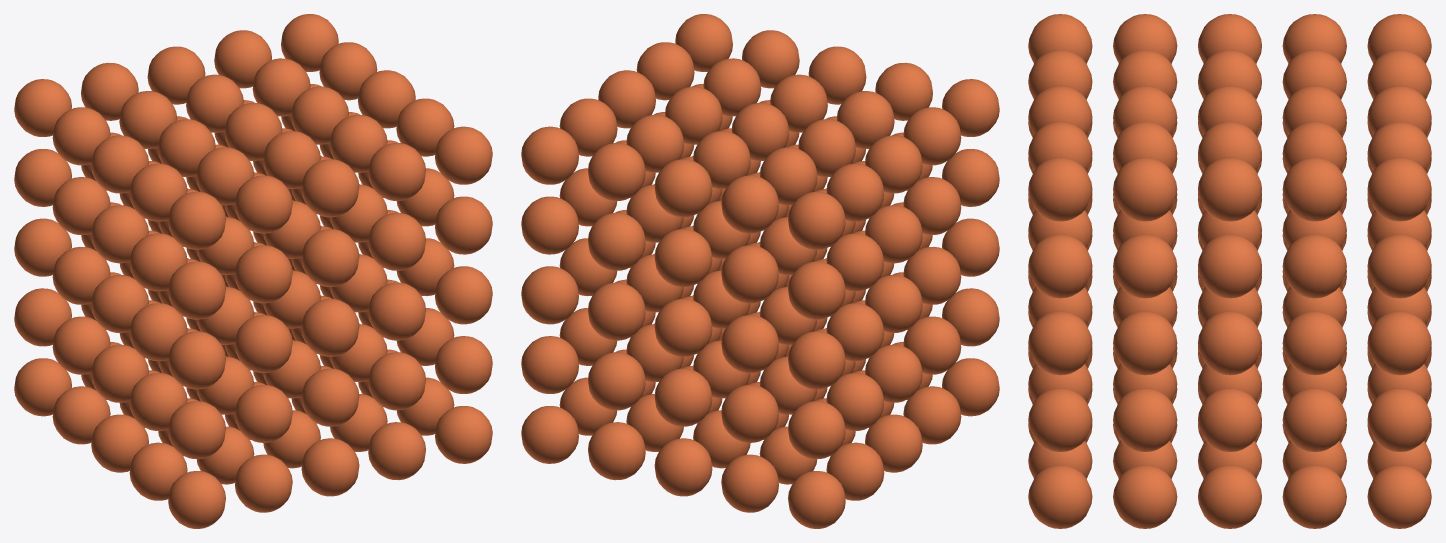
The model's file is PBRMaterialGrid.gltf.
3 views of the same model, side by side, from view 1: azimuth 30°, elevation 25°; view 2: azimuth 150°, elevation 25°; view 3: azimuth 270°, elevation 25° (orthographic). The views are drawn at different scales.
Parts seen in each view (by area): view 1: PBRFactor_C0_terracotta_M0.50_R1.00, PBRFactor_C0_terracotta_M0.25_R1.00, PBRFactor_C0_terracotta_M0.50_R0.75, PBRFactor_C0_terracotta_M0.00_R0.50, PBRFactor_C0_terracotta_M0.25_R0.05, PBRFactor_C0_terracotta_M0.50_R0.05, PBRFactor_C0_terracotta_M1.00_R0.50, PBRFactor_C0_terracotta_M0.00_R0.05, PBRFactor_C0_terracotta_M0.75_R0.25, PBRFactor_C0_terracotta_M0.75_R0.50, PBRFactor_C0_terracotta_M0.75_R0.75, PBRFactor_C0_terracotta_M1.00_R0.05 (+65 smaller); view 2: PBRFactor_C4_neutral_M0.50_R1.00, PBRFactor_C4_neutral_M0.25_R1.00, PBRFactor_C4_neutral_M0.50_R0.75, PBRFactor_C4_neutral_M0.00_R0.50, PBRFactor_C4_neutral_M0.25_R0.05, PBRFactor_C4_neutral_M0.50_R0.05, PBRFactor_C4_neutral_M1.00_R0.50, PBRFactor_C4_neutral_M0.00_R0.05, PBRFactor_C4_neutral_M0.75_R0.25, PBRFactor_C4_neutral_M0.75_R0.50, PBRFactor_C4_neutral_M0.75_R0.75, PBRFactor_C4_neutral_M1.00_R0.05 (+65 smaller); view 3: PBRFactor_C0_terracotta_M1.00_R0.05, PBRFactor_C4_neutral_M1.00_R0.05, PBRFactor_C0_terracotta_M1.00_R0.25, PBRFactor_C0_terracotta_M1.00_R0.50, PBRFactor_C4_neutral_M1.00_R0.25, PBRFactor_C4_neutral_M1.00_R0.50, PBRFactor_C1_gold_M1.00_R0.05, PBRFactor_C3_blue_M1.00_R0.05, PBRFactor_C1_gold_M1.00_R0.25, PBRFactor_C2_green_M1.00_R0.25, PBRFactor_C2_green_M1.00_R0.75, PBRFactor_C2_green_M1.00_R1.00 (+53 smaller).
Part boxes in pixels (box(x1,y1,x2,y2)): PBRFactor_C0_terracotta_M0.50_R1.00: box(301, 438, 359, 496); PBRFactor_C0_terracotta_M0.25_R1.00: box(235, 454, 292, 512); PBRFactor_C0_terracotta_M0.50_R0.75: box(301, 368, 359, 426); PBRFactor_C0_terracotta_M0.00_R0.50: box(168, 331, 225, 389); PBRFactor_C0_terracotta_M0.25_R0.05: box(235, 175, 292, 233); PBRFactor_C0_terracotta_M0.50_R0.05: box(301, 159, 359, 217); PBRFactor_C0_terracotta_M1.00_R0.50: box(435, 266, 492, 324); PBRFactor_C0_terracotta_M0.00_R0.05: box(168, 191, 225, 249); PBRFactor_C0_terracotta_M0.75_R0.25: box(368, 212, 425, 270); PBRFactor_C0_terracotta_M0.75_R0.50: box(368, 282, 425, 340); PBRFactor_C0_terracotta_M0.75_R0.75: box(368, 352, 425, 410); PBRFactor_C0_terracotta_M1.00_R0.05: box(435, 126, 492, 184); PBRFactor_C4_neutral_M0.50_R1.00: box(654, 438, 712, 496); PBRFactor_C4_neutral_M0.25_R1.00: box(721, 454, 778, 512); PBRFactor_C4_neutral_M0.50_R0.75: box(654, 368, 712, 426); PBRFactor_C4_neutral_M0.00_R0.50: box(788, 331, 845, 389); PBRFactor_C4_neutral_M0.25_R0.05: box(721, 175, 778, 233); PBRFactor_C4_neutral_M0.50_R0.05: box(654, 159, 712, 217); PBRFactor_C4_neutral_M1.00_R0.50: box(521, 266, 578, 324); PBRFactor_C4_neutral_M0.00_R0.05: box(788, 191, 845, 249); PBRFactor_C4_neutral_M0.75_R0.25: box(588, 212, 645, 270); PBRFactor_C4_neutral_M0.75_R0.50: box(588, 282, 645, 340); PBRFactor_C4_neutral_M0.75_R0.75: box(588, 352, 645, 410); PBRFactor_C4_neutral_M1.00_R0.05: box(521, 126, 578, 184); PBRFactor_C0_terracotta_M1.00_R0.05: box(1028, 157, 1092, 221); PBRFactor_C4_neutral_M1.00_R0.05: box(1367, 157, 1431, 221); PBRFactor_C0_terracotta_M1.00_R0.25: box(1028, 234, 1092, 298); PBRFactor_C0_terracotta_M1.00_R0.50: box(1028, 311, 1092, 375); PBRFactor_C4_neutral_M1.00_R0.25: box(1367, 234, 1431, 298); PBRFactor_C4_neutral_M1.00_R0.50: box(1367, 311, 1431, 375); PBRFactor_C1_gold_M1.00_R0.05: box(1113, 157, 1177, 221); PBRFactor_C3_blue_M1.00_R0.05: box(1282, 157, 1346, 221); PBRFactor_C1_gold_M1.00_R0.25: box(1113, 234, 1177, 298); PBRFactor_C2_green_M1.00_R0.25: box(1198, 234, 1261, 298); PBRFactor_C2_green_M1.00_R0.75: box(1198, 388, 1261, 451); PBRFactor_C2_green_M1.00_R1.00: box(1198, 465, 1261, 528).
Size of the model in its own units: 6.9 by 6.9 by 6.9.
